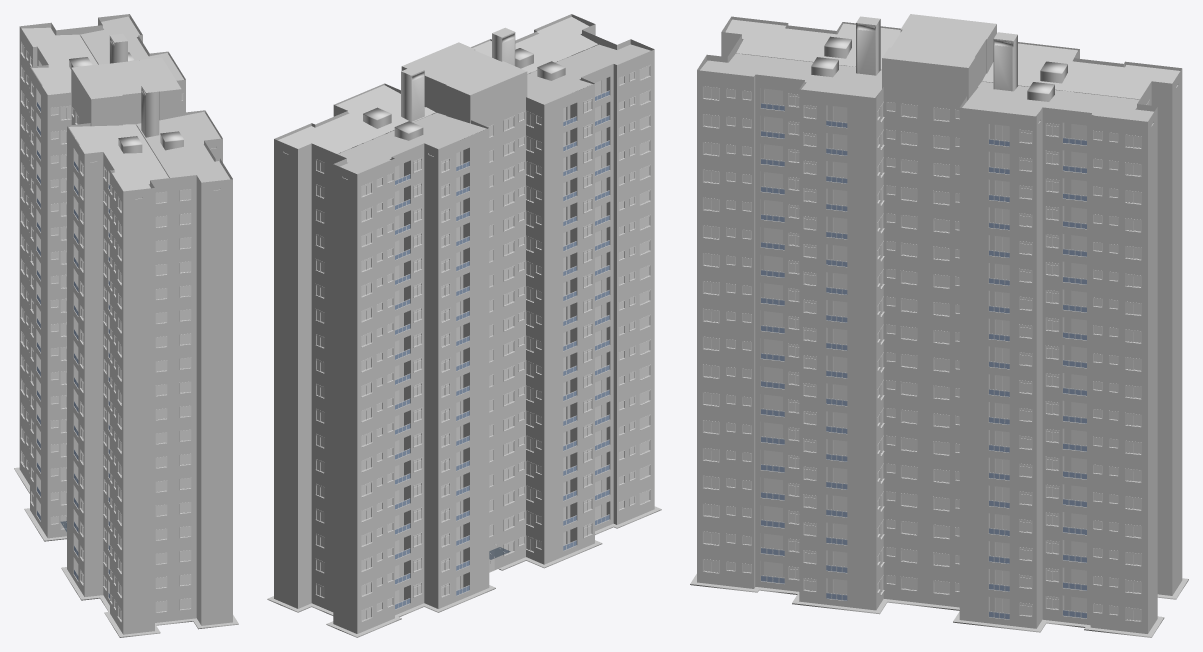
Rendered from Torre02.fbx.
The picture shows the model from 3 angles, left to right: view 1: azimuth 30°, elevation 25°; view 2: azimuth 150°, elevation 25°; view 3: azimuth 270°, elevation 25°; orthographic projection. The views are drawn at different scales.
Visible parts, largest first — view 1: Torre02, Vidros_parepeito_Torre02; view 2: Torre02, Vidros_parepeito_Torre02; view 3: Torre02, Vidros_parepeito_Torre02.
Part boxes in pixels (box(x1,y1,x2,y2)): Torre02: box(14, 14, 238, 637); Vidros_parepeito_Torre02: box(37, 101, 109, 598); Torre02: box(267, 14, 661, 637); Vidros_parepeito_Torre02: box(395, 90, 609, 609); Torre02: box(690, 14, 1188, 637); Vidros_parepeito_Torre02: box(761, 103, 1086, 619).
Bounding box in the file's own units: 2421 × 5674 × 4600.
